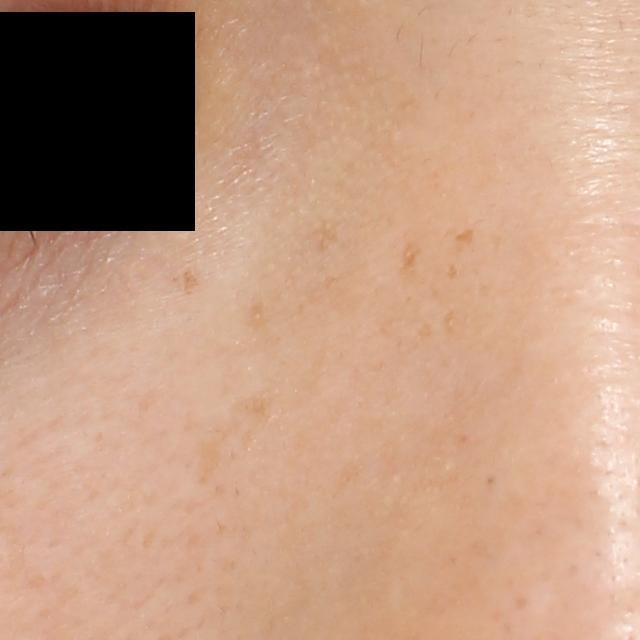melasma: (185, 393, 277, 489), (243, 296, 271, 334), (400, 234, 423, 274), (171, 264, 201, 294), (452, 226, 477, 247), (443, 261, 462, 279)
